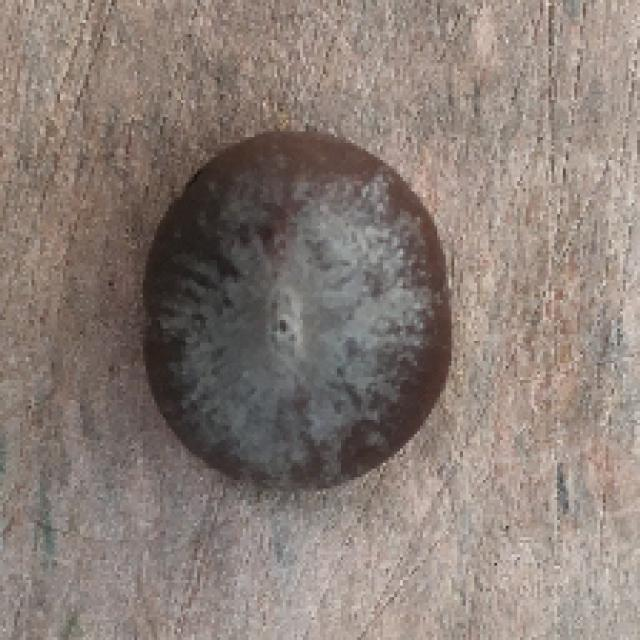damagedHazelnut: (123, 118, 457, 508)
